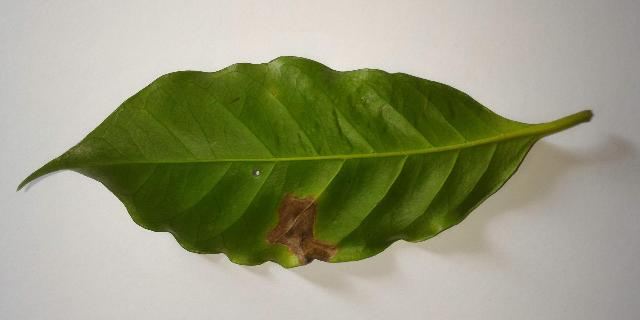cercospora: (266, 193, 339, 266)
